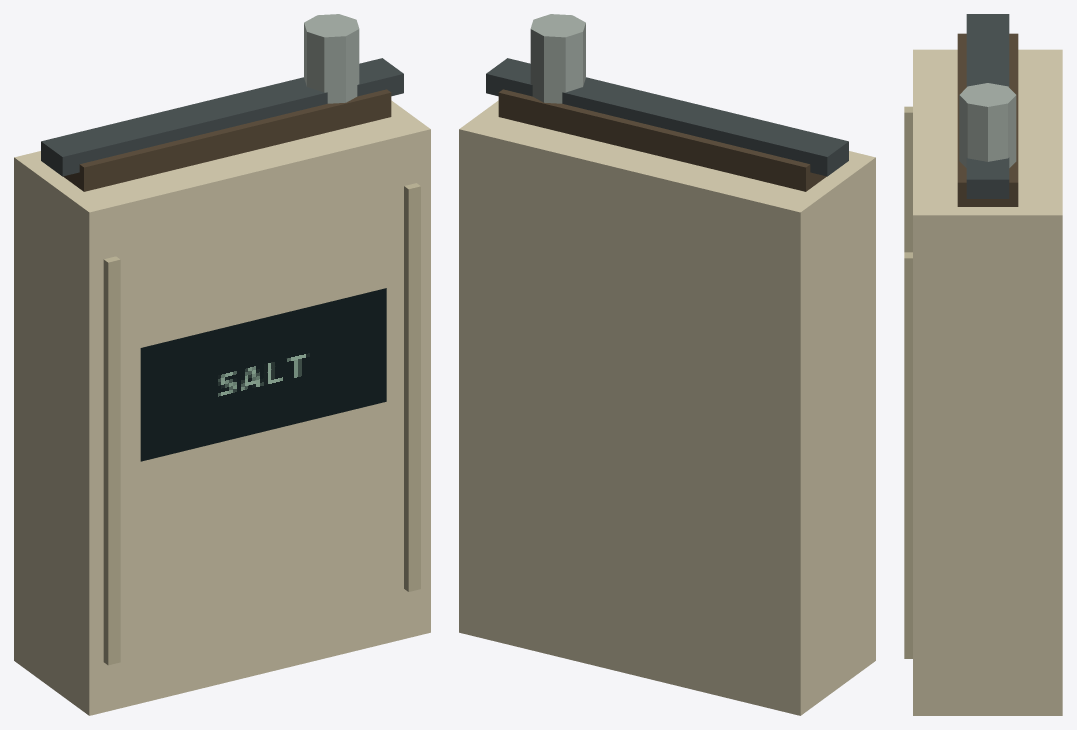
File: blender_salt_2.glb
3 views of the same model, side by side, from view 1: azimuth 30°, elevation 25°; view 2: azimuth 150°, elevation 25°; view 3: azimuth 270°, elevation 25° (orthographic).
Parts seen in each view (by area): view 1: blender_salt_2; view 2: blender_salt_2; view 3: blender_salt_2.
Part boxes in pixels (x1,y1,x2,y2): blender_salt_2: [14, 14, 430, 715]; blender_salt_2: [459, 14, 875, 715]; blender_salt_2: [904, 14, 1062, 715].
Size of the model in its own units: 0.11 by 0.183 by 0.0445.
Materials: 1 (1 with a texture image).
